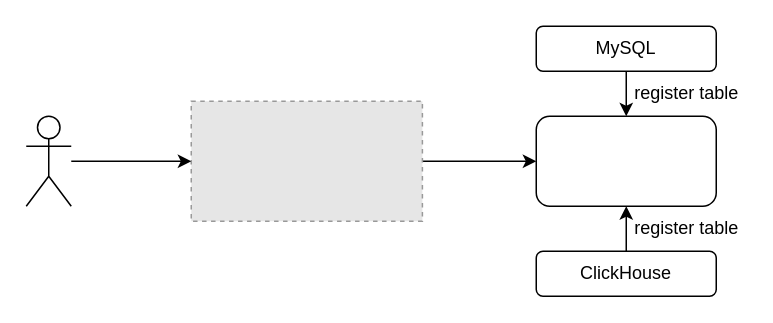
Some shapes in this 773 by 323 pixel diagram are drawn without their labels. Grey dashed boxes stand in for pictures. The centre of each missing label's shape, as x and y in pixels:
Hive Metastore: the point at 625,160
User: the point at 48,160
